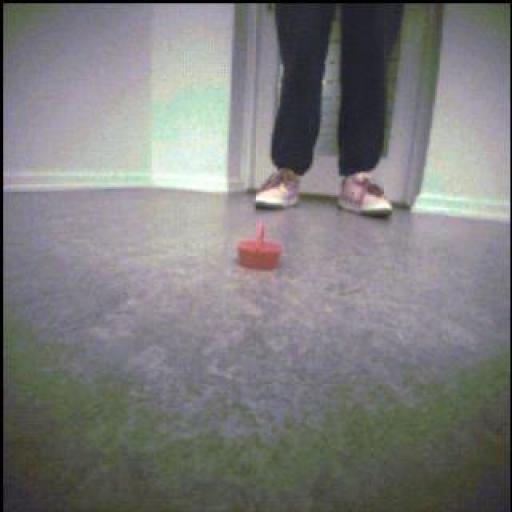Bucket: (240, 222, 283, 271)
